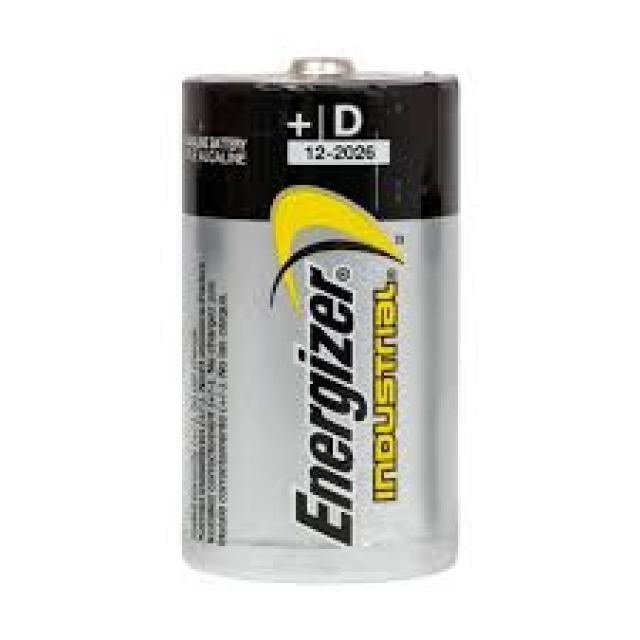Battery: (183, 56, 459, 583)
